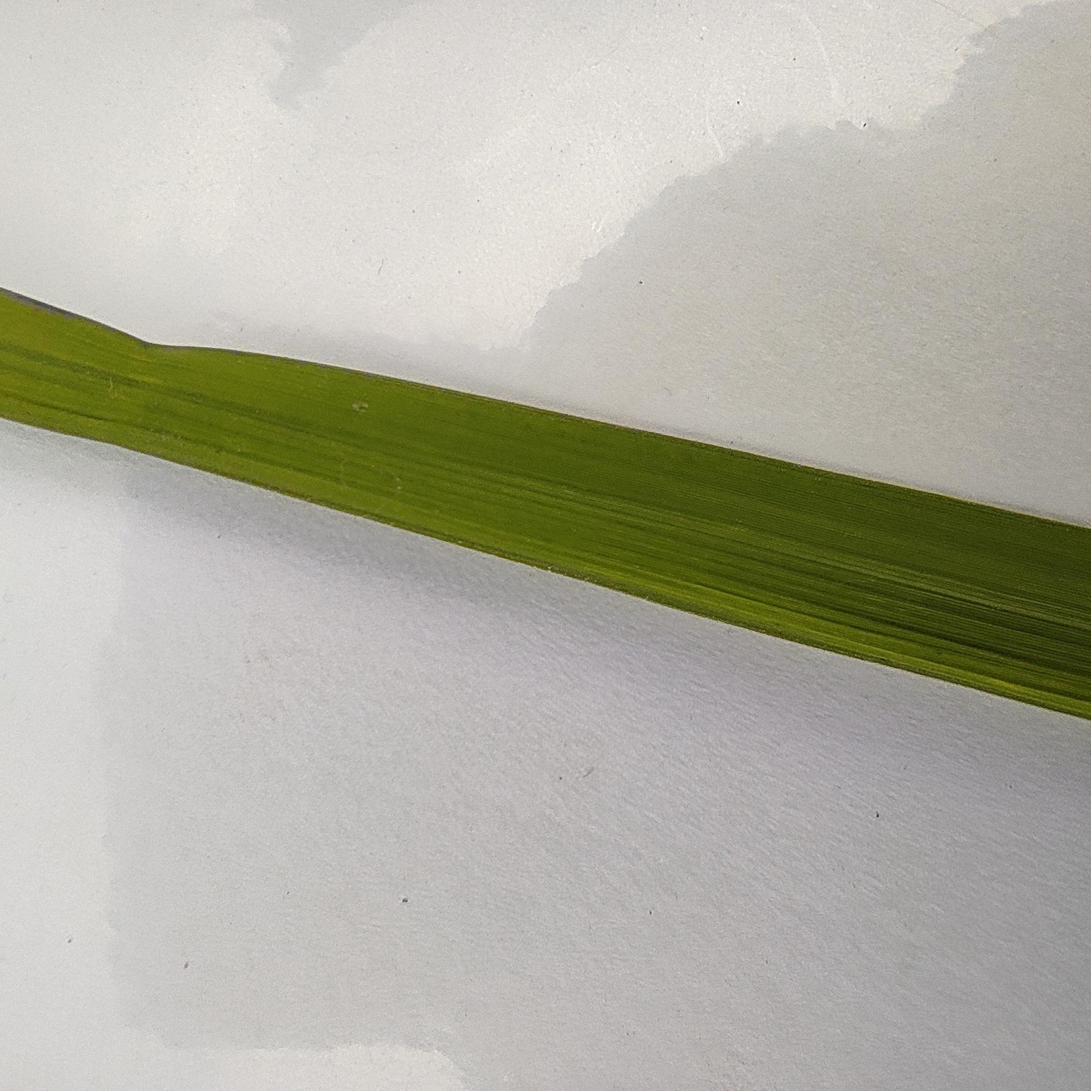Healthy: (372, 0, 797, 1090)
